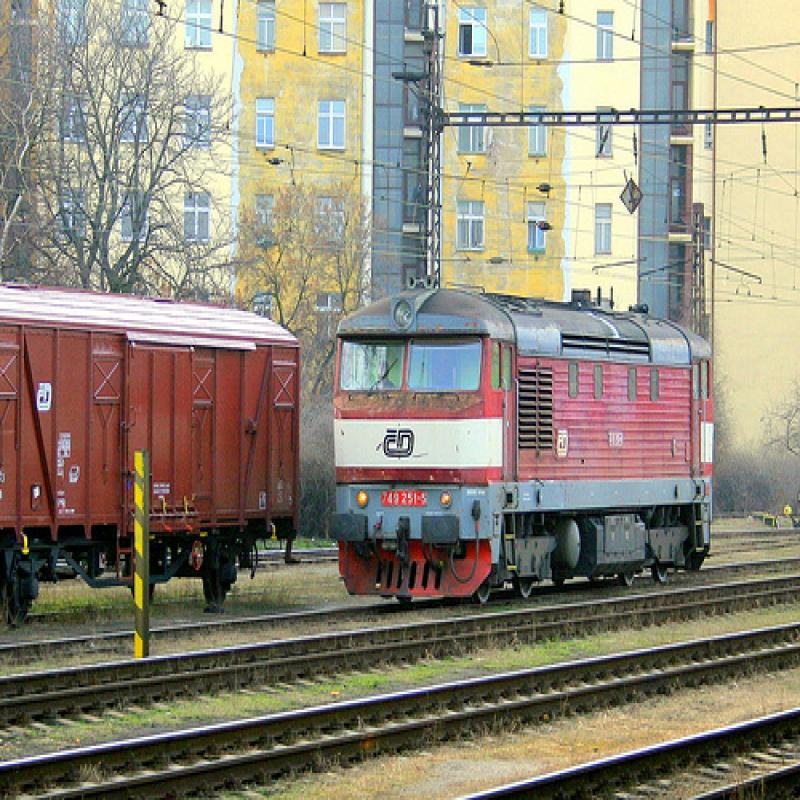train: (340, 294, 715, 605), (3, 289, 304, 614)
